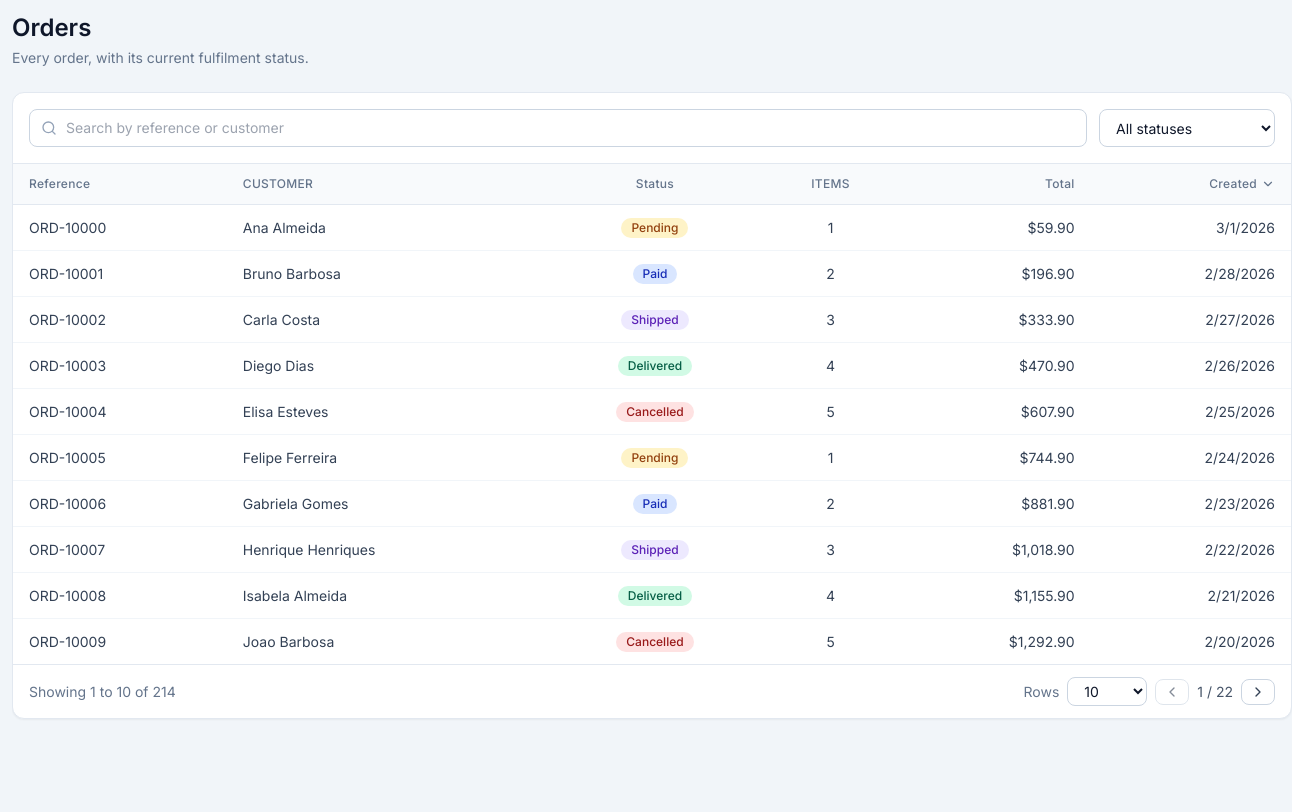
OrdersPage › searches by reference after the debounce
Type "ORD-10001" into the field with placeholder "Search by reference or customer".
click(558, 128); type("ORD-10001")  # box [29,109,1087,147]
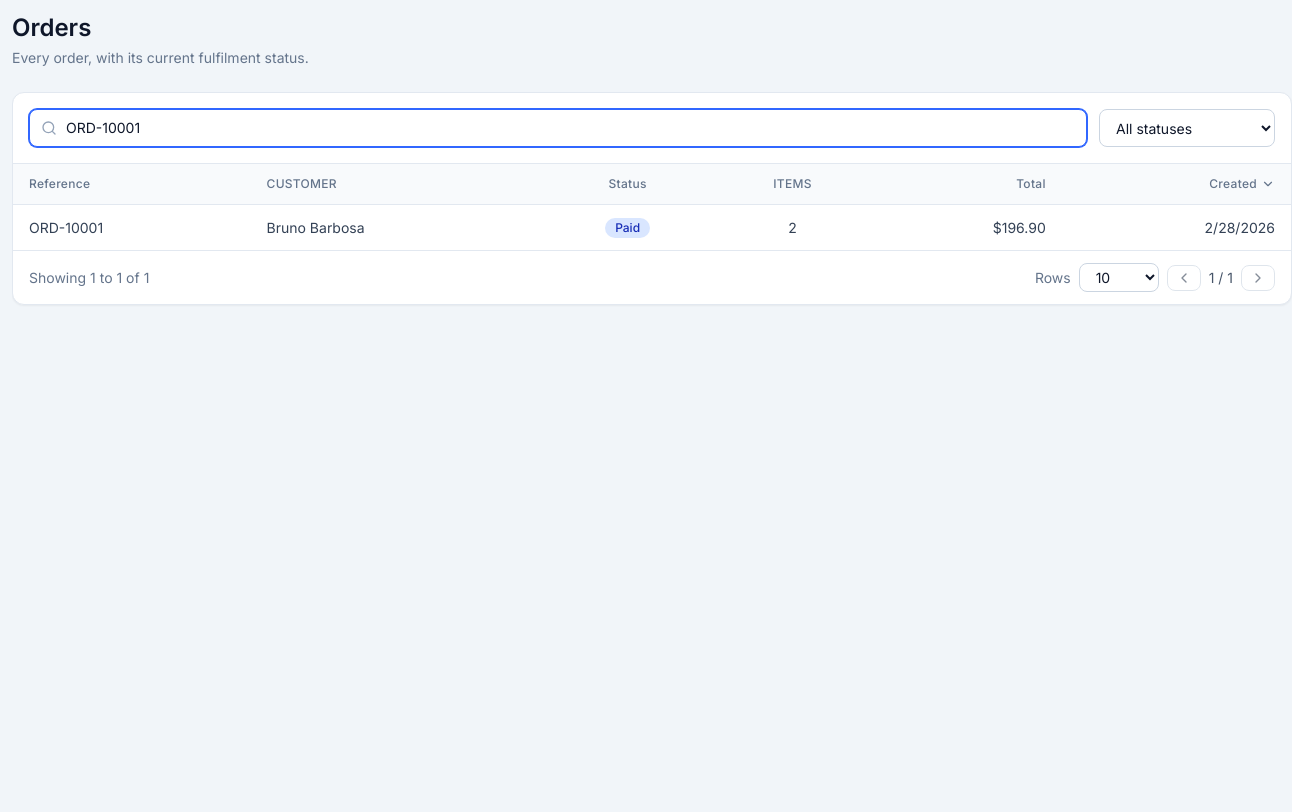
Expected: the text "Showing 1 to 1 of 1" is shown, [29,268,149,288]
